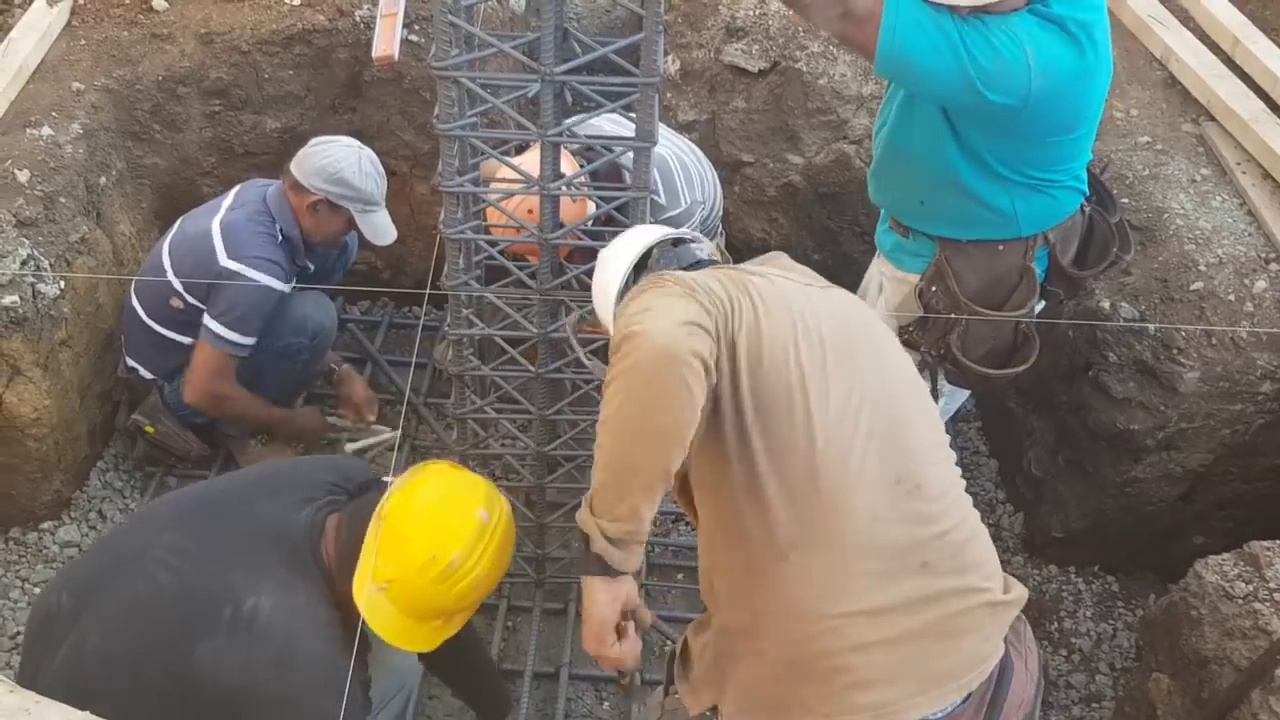helmet: (341, 454, 513, 650), (588, 227, 716, 336), (484, 138, 598, 253)
helmet-off: (281, 136, 396, 257)
helmet-on: (307, 452, 513, 659), (481, 129, 632, 266), (584, 225, 744, 350)
person: (566, 219, 1054, 720), (5, 437, 513, 719), (783, 0, 1114, 428), (126, 129, 409, 458), (482, 107, 727, 268)
